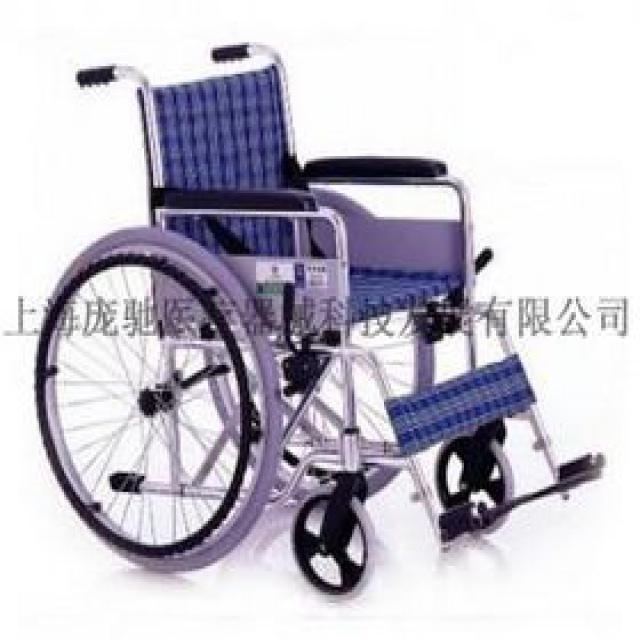wheelchair: (32, 39, 624, 604)
